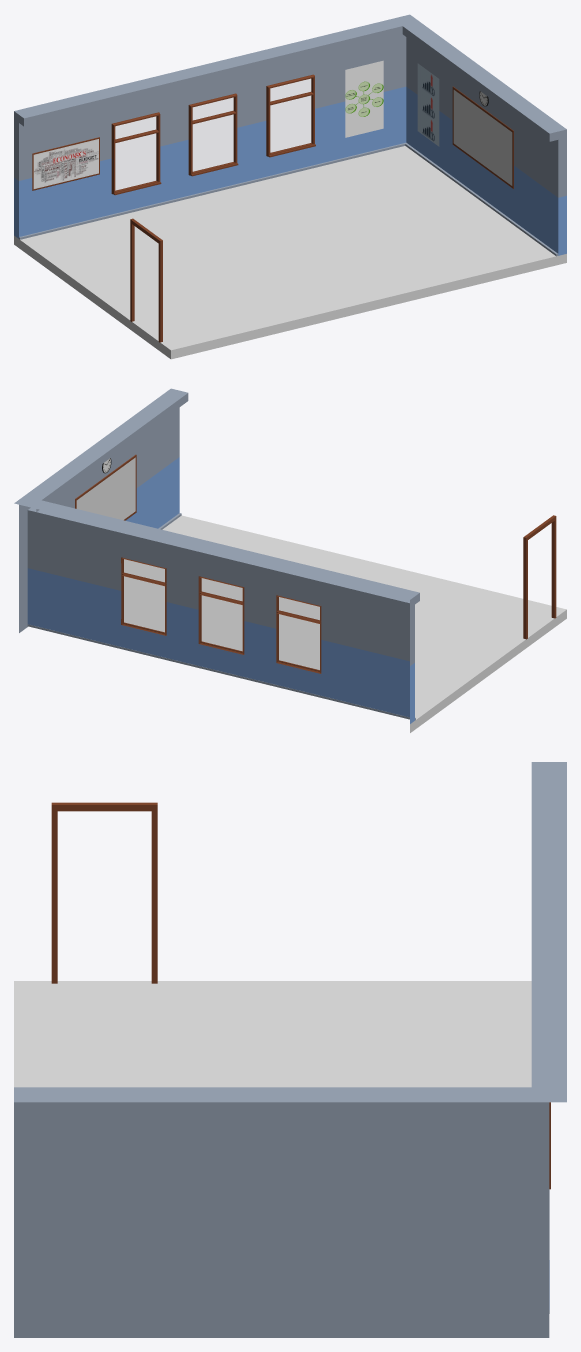
The model's file is Room_Aula3.fbx.
The picture shows the model from 3 angles, top to bottom: view 1: azimuth 30°, elevation 25°; view 2: azimuth 150°, elevation 25°; view 3: azimuth 270°, elevation 25°; orthographic projection. The views are drawn at different scales.
Visible parts, largest first — view 1: Aula3_Base; view 2: Aula3_Base; view 3: Aula3_Base.
Part boxes in pixels (x1=…): Aula3_Base: x1=14, y1=14, x2=566, y2=359; Aula3_Base: x1=14, y1=388, x2=566, y2=732; Aula3_Base: x1=14, y1=762, x2=566, y2=1337.
Bounding box in the file's own units: 4545 × 1467 × 3121.
Materials: 10 (4 with a texture image).
